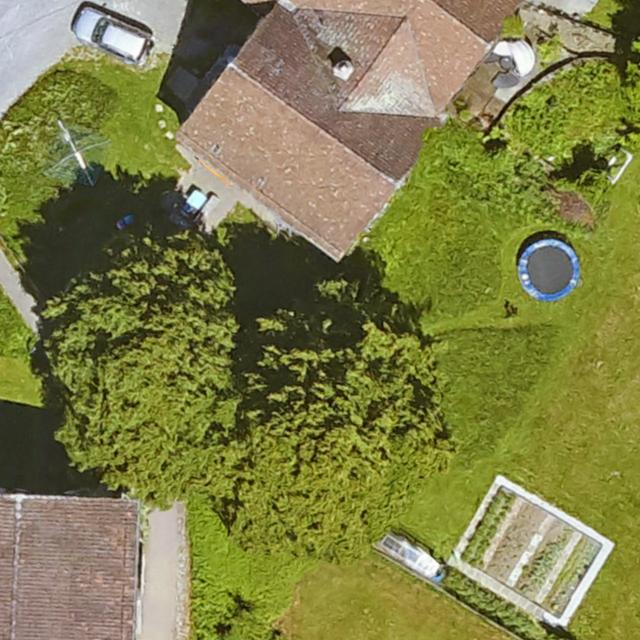tree: (190, 292, 442, 556), (37, 225, 231, 518), (621, 29, 640, 145), (567, 171, 619, 212)
